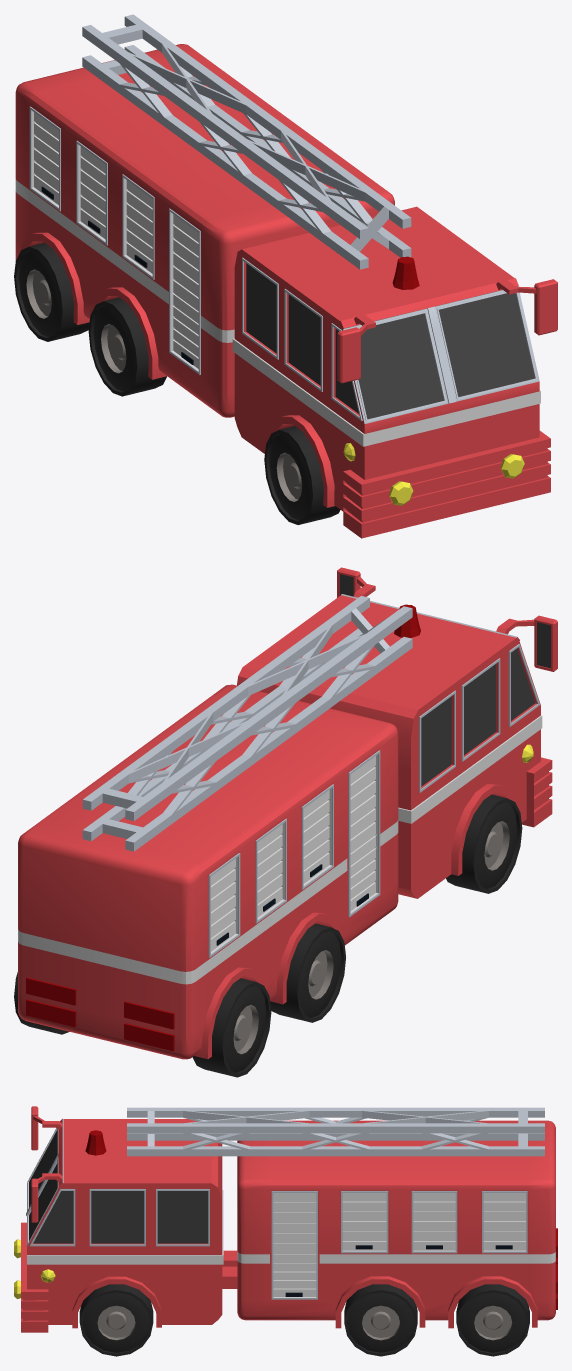
Rendered from fire-truck.fbx.
3 views of the same model, one above another, from view 1: azimuth 30°, elevation 25°; view 2: azimuth 150°, elevation 25°; view 3: azimuth 270°, elevation 25° (orthographic). The views are drawn at different scales.
Parts seen in each view (by area): view 1: fire-truck, fire-truck-rear-wheels-A, fire-truck-rear-wheels-B, fire-truck-front-wheels; view 2: fire-truck, fire-truck-rear-wheels-B, fire-truck-front-wheels, fire-truck-rear-wheels-A; view 3: fire-truck, fire-truck-front-wheels, fire-truck-rear-wheels-B, fire-truck-rear-wheels-A.
Part boxes in pixels (bbox=[...]): fire-truck: bbox=[15, 14, 557, 538]; fire-truck-rear-wheels-A: bbox=[88, 297, 166, 396]; fire-truck-rear-wheels-B: bbox=[14, 243, 89, 341]; fire-truck-front-wheels: bbox=[264, 426, 340, 524]; fire-truck: bbox=[18, 567, 557, 1059]; fire-truck-rear-wheels-B: bbox=[14, 972, 271, 1077]; fire-truck-front-wheels: bbox=[446, 794, 522, 893]; fire-truck-rear-wheels-A: bbox=[270, 923, 345, 1022]; fire-truck: bbox=[14, 1106, 557, 1332]; fire-truck-front-wheels: bbox=[79, 1284, 153, 1356]; fire-truck-rear-wheels-B: bbox=[456, 1284, 529, 1356]; fire-truck-rear-wheels-A: bbox=[344, 1284, 417, 1356].
Size of the model in its own units: 2.7 by 3.18 by 7.78.
